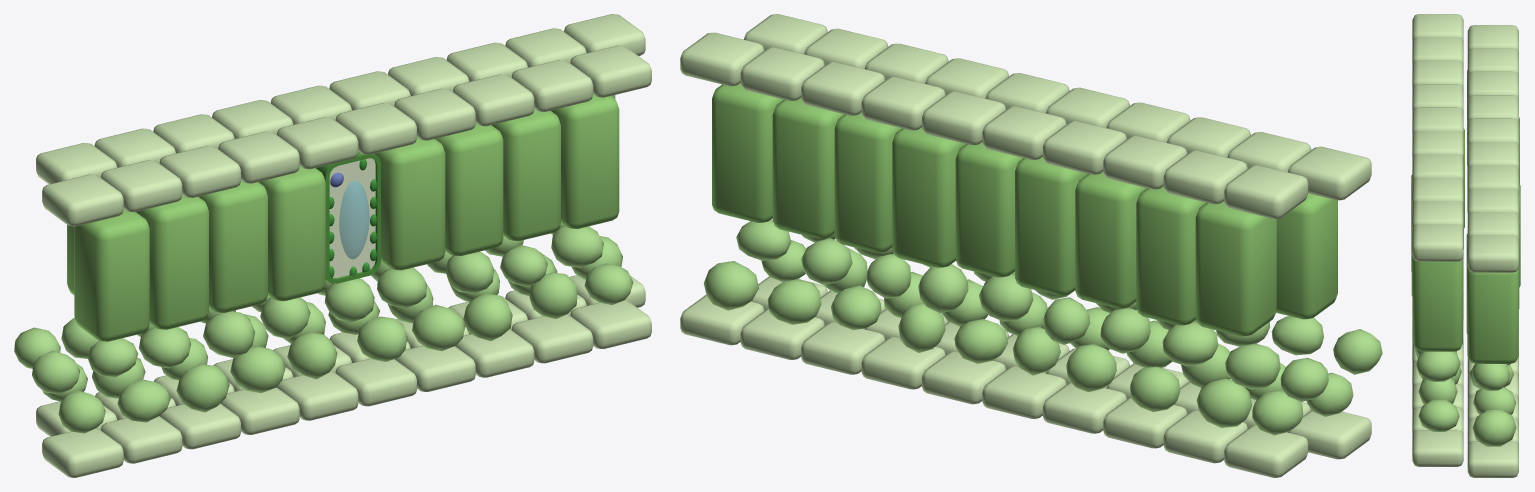
Rendered from plant-cell.glb.
The picture shows the model from 3 angles, left to right: view 1: azimuth 30°, elevation 25°; view 2: azimuth 150°, elevation 25°; view 3: azimuth 270°, elevation 25°; orthographic projection. The views are drawn at different scales.
Parts seen in each view (by area): view 1: Tissue_Column_Cells, Tissue_Skin_Top, Tissue_Round_Cells, Tissue_Skin_Bottom, Cytoplasm, Vacuole, Cell_Wall, Chloroplasts; view 2: Tissue_Column_Cells, Tissue_Skin_Top, Tissue_Round_Cells, Tissue_Skin_Bottom; view 3: Tissue_Skin_Top, Tissue_Column_Cells, Tissue_Round_Cells, Tissue_Skin_Bottom.
Part boxes in pixels (box(x1,y1,x2,y2)): Tissue_Column_Cells: box(67, 95, 619, 341); Tissue_Skin_Top: box(36, 14, 651, 226); Tissue_Round_Cells: box(14, 223, 633, 433); Tissue_Skin_Bottom: box(36, 275, 651, 477); Cytoplasm: box(329, 158, 375, 278); Vacuole: box(339, 180, 369, 259); Cell_Wall: box(316, 152, 380, 283); Chloroplasts: box(329, 159, 376, 277); Tissue_Column_Cells: box(712, 83, 1337, 336); Tissue_Skin_Top: box(680, 14, 1371, 218); Tissue_Round_Cells: box(703, 219, 1382, 435); Tissue_Skin_Bottom: box(680, 276, 1371, 477); Tissue_Skin_Top: box(1412, 14, 1518, 272); Tissue_Column_Cells: box(1411, 70, 1520, 363); Tissue_Round_Cells: box(1414, 347, 1516, 446); Tissue_Skin_Bottom: box(1412, 256, 1518, 477).
Bounding box in the file's own units: 11.41 × 4.76 × 2.09.
